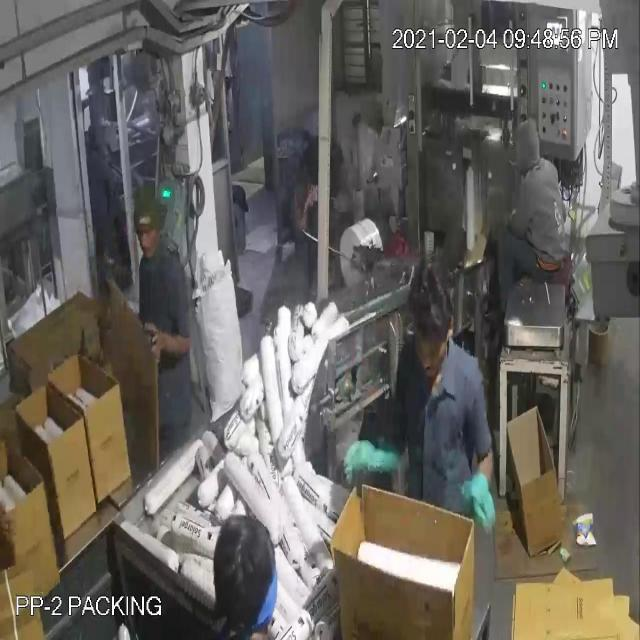No_Gloves: (60, 58, 479, 502)
